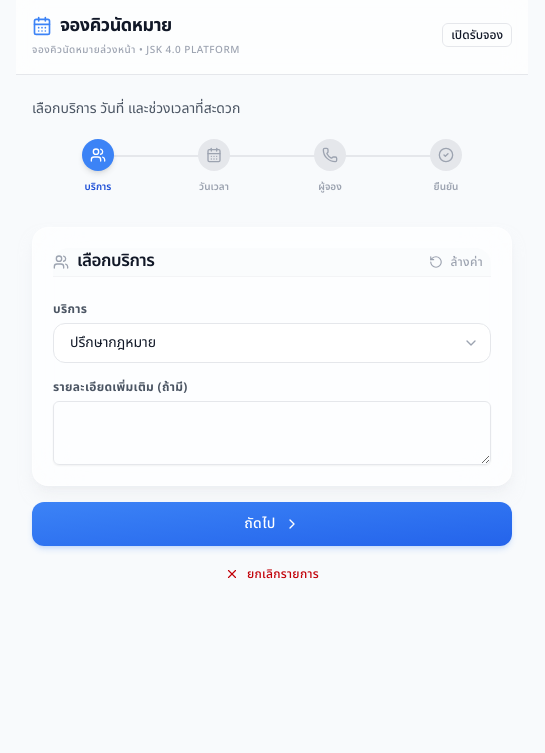
Test: date selection › disables a closed day chip before the citizen taps it
Select "ปรึกษากฎหมาย" in the dropdown named "เลือกบริการ" at point(272, 343), box [53, 323, 491, 363]
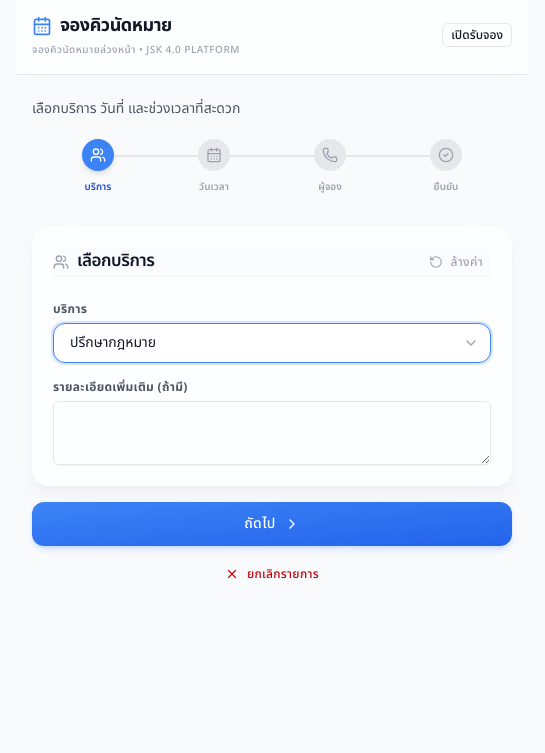
Click the button "ถัดไป" at point(272, 524), box [32, 502, 512, 546]
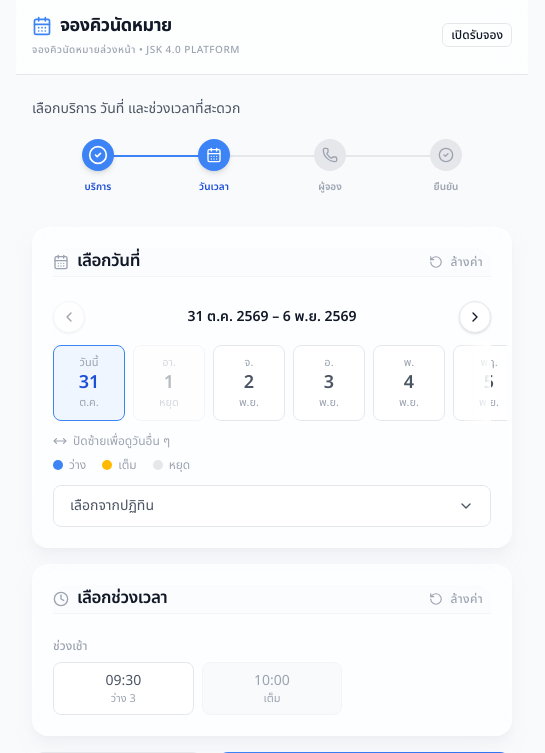
Expected: the button "วันนี้ 31 ต.ค." is enabled, [53, 345, 125, 421]
